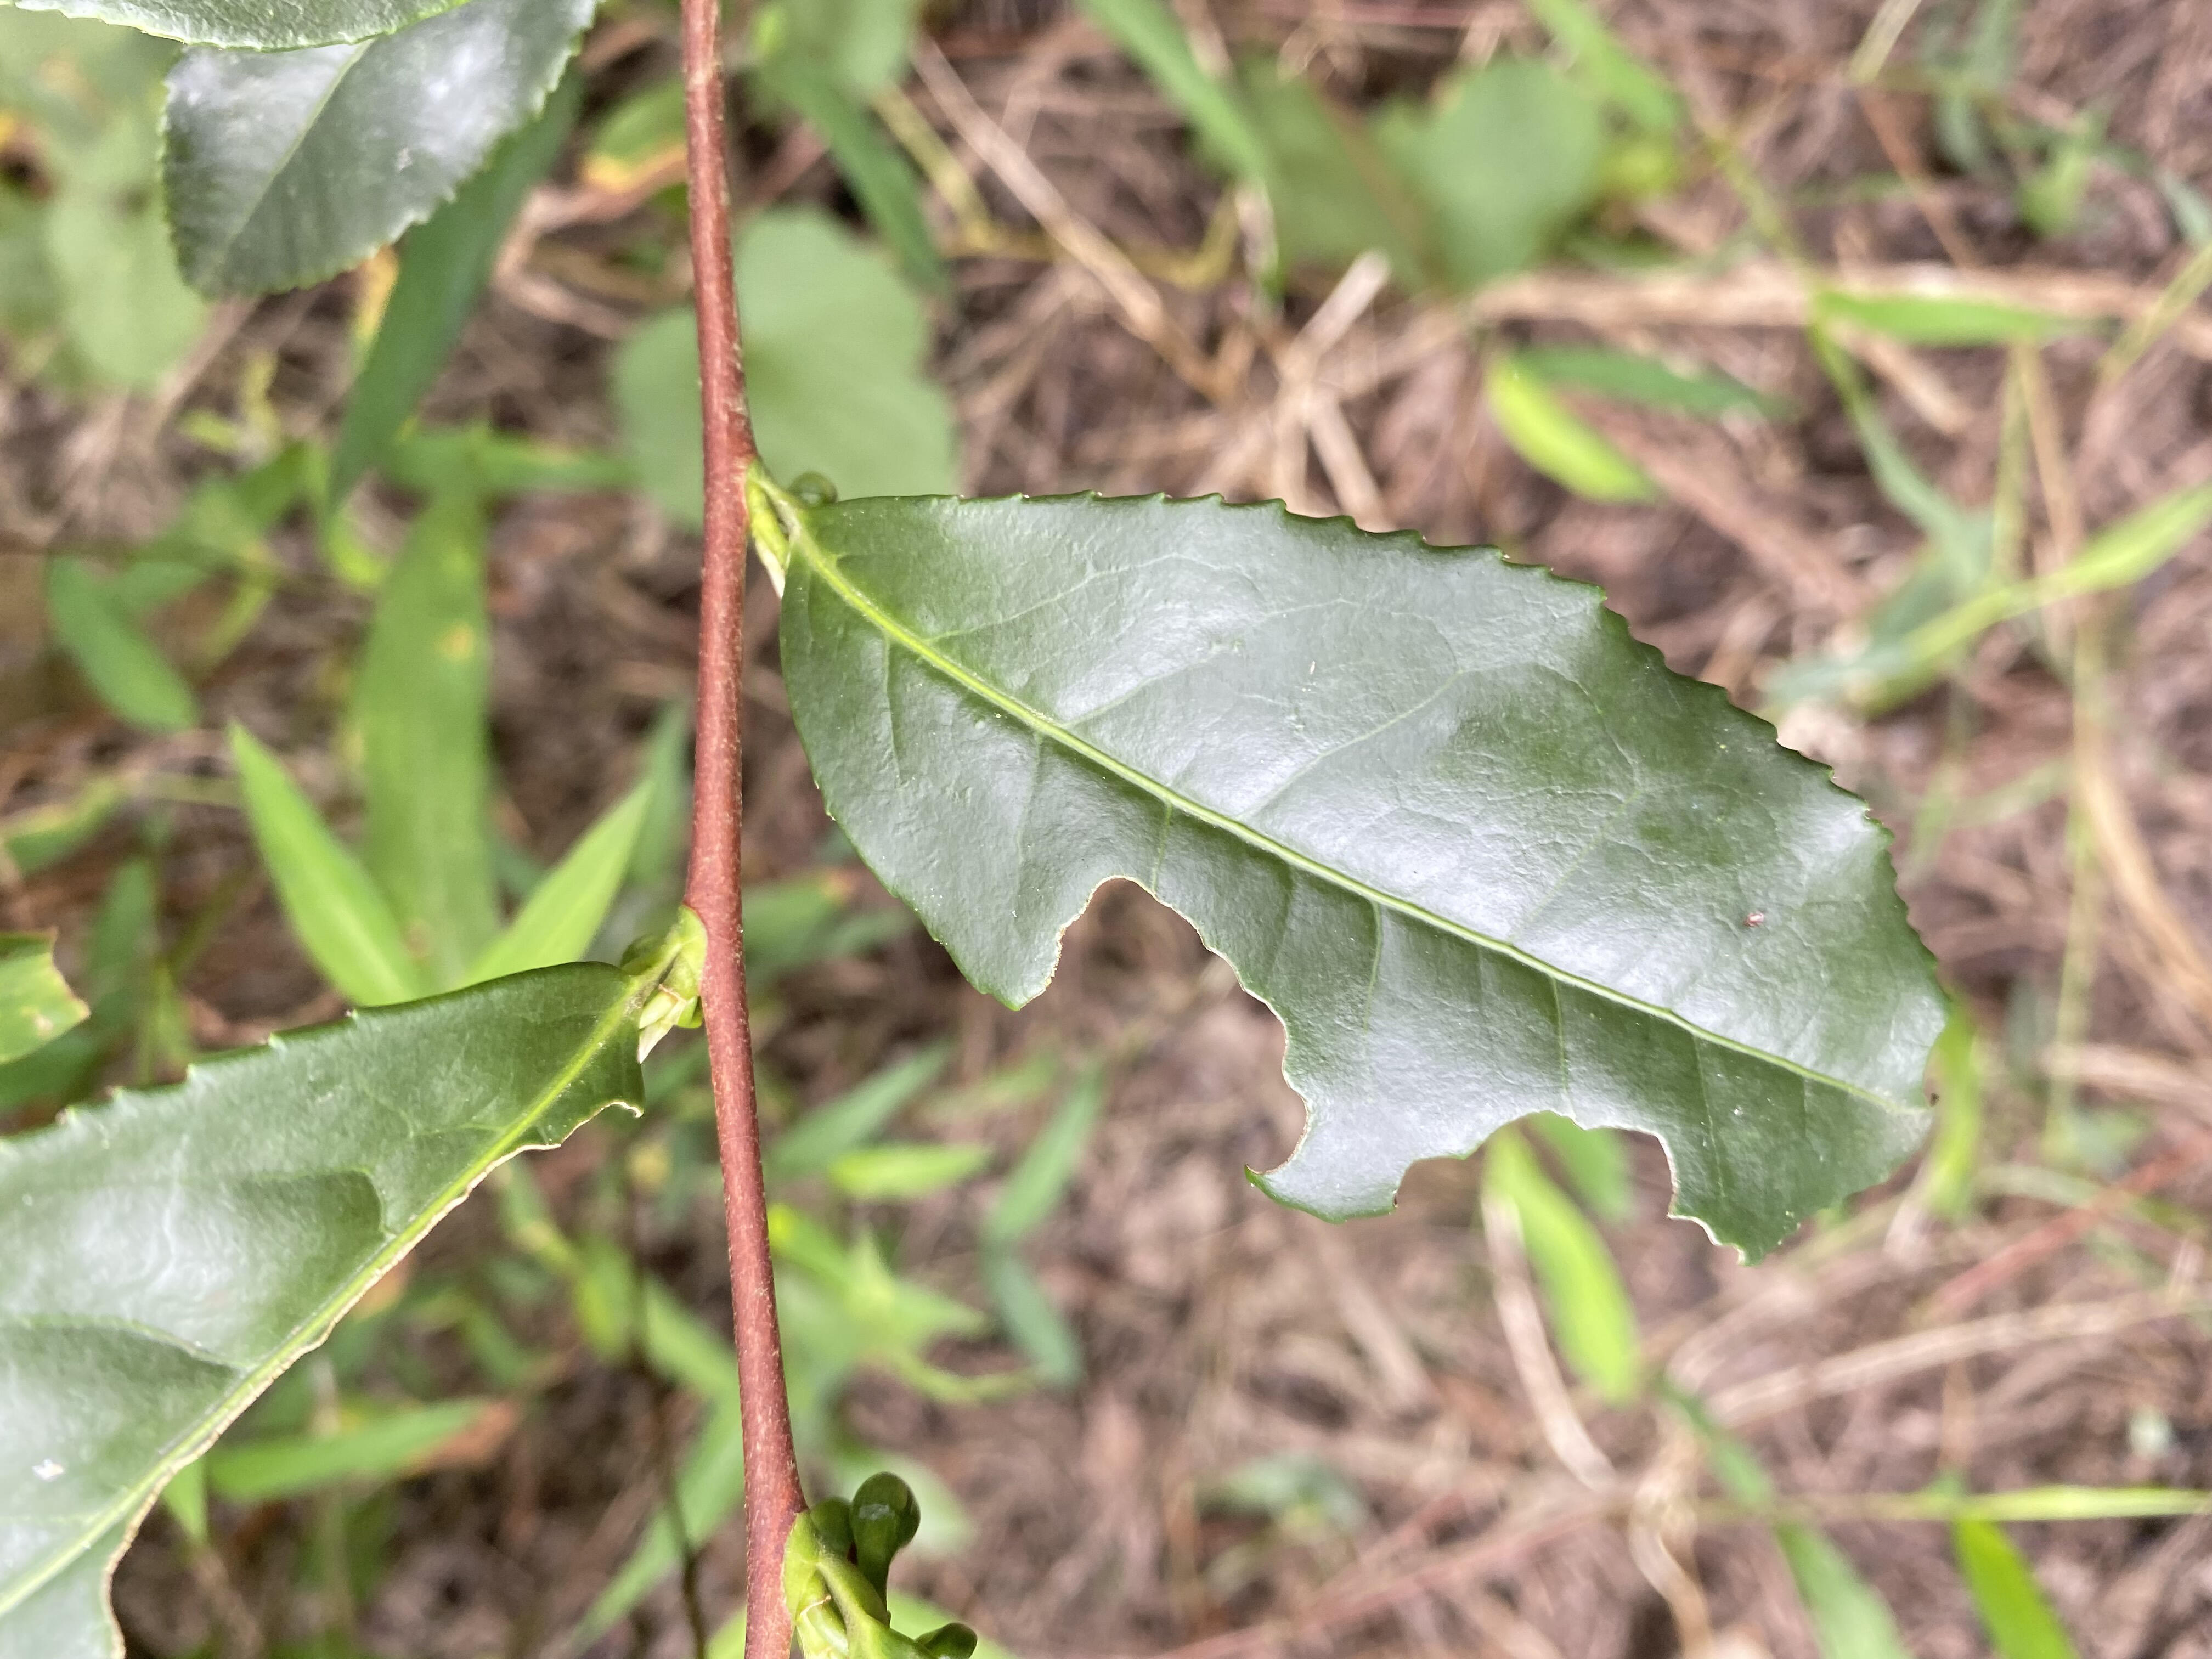chihuo_high: (777, 490, 1958, 1269), (3, 962, 651, 1659)
